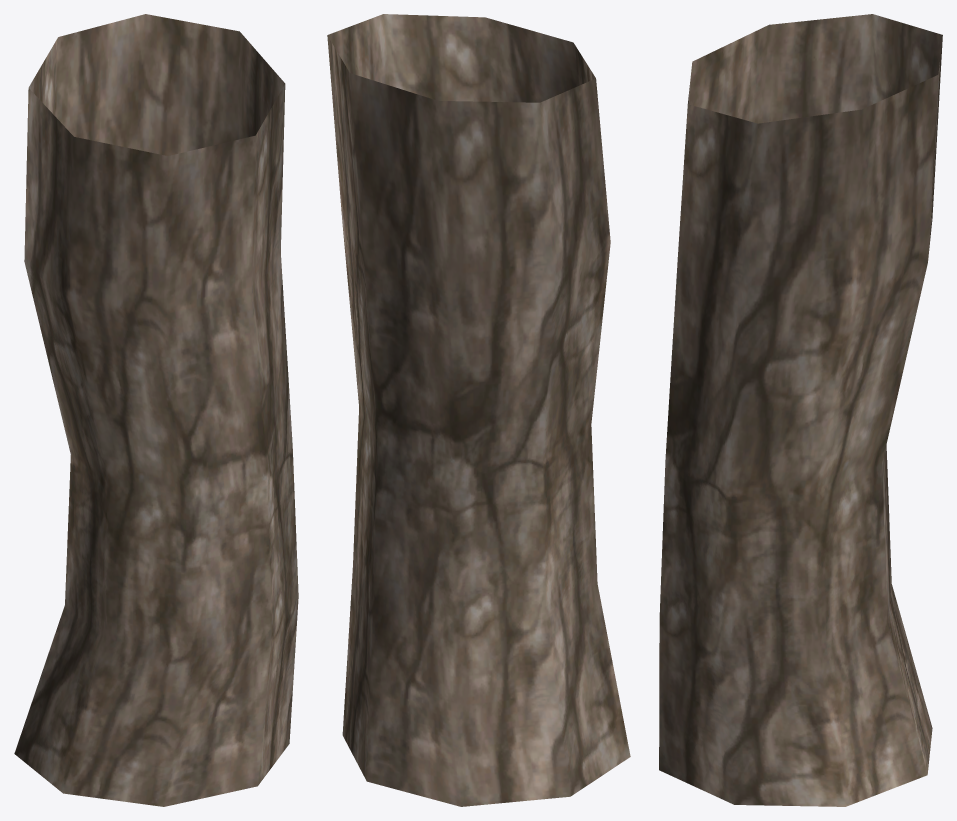
The model's file is EKH_CAVERNS_PS_CA_CYLINDER09.fbx.
The picture shows the model from 3 angles, left to right: view 1: azimuth 30°, elevation 25°; view 2: azimuth 150°, elevation 25°; view 3: azimuth 270°, elevation 25°; orthographic projection. The views are drawn at different scales.
Visible parts, largest first — view 1: EKH_CAVERNS_PS_CA_CYLINDER09; view 2: EKH_CAVERNS_PS_CA_CYLINDER09; view 3: EKH_CAVERNS_PS_CA_CYLINDER09.
Boxes of the visible parts, x1,y1,x2,y2 form: EKH_CAVERNS_PS_CA_CYLINDER09: (14, 14, 298, 806); EKH_CAVERNS_PS_CA_CYLINDER09: (327, 14, 630, 806); EKH_CAVERNS_PS_CA_CYLINDER09: (659, 14, 942, 806).
Size of the model in its own units: 33069 by 91474 by 33326.
1 material, 1 textured.
